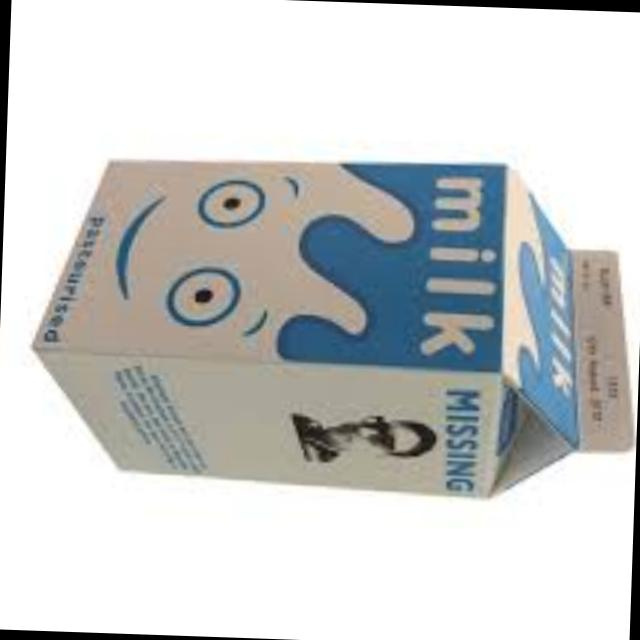cardboard paper: (41, 157, 637, 491)
